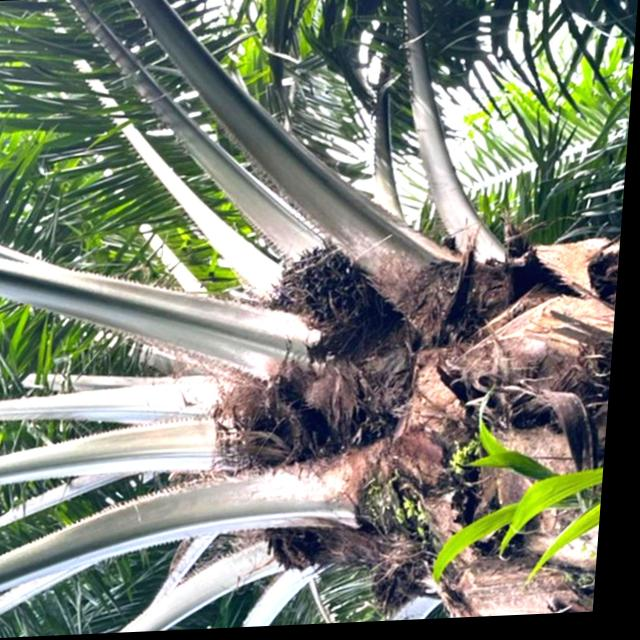unripe: (266, 237, 409, 366)
